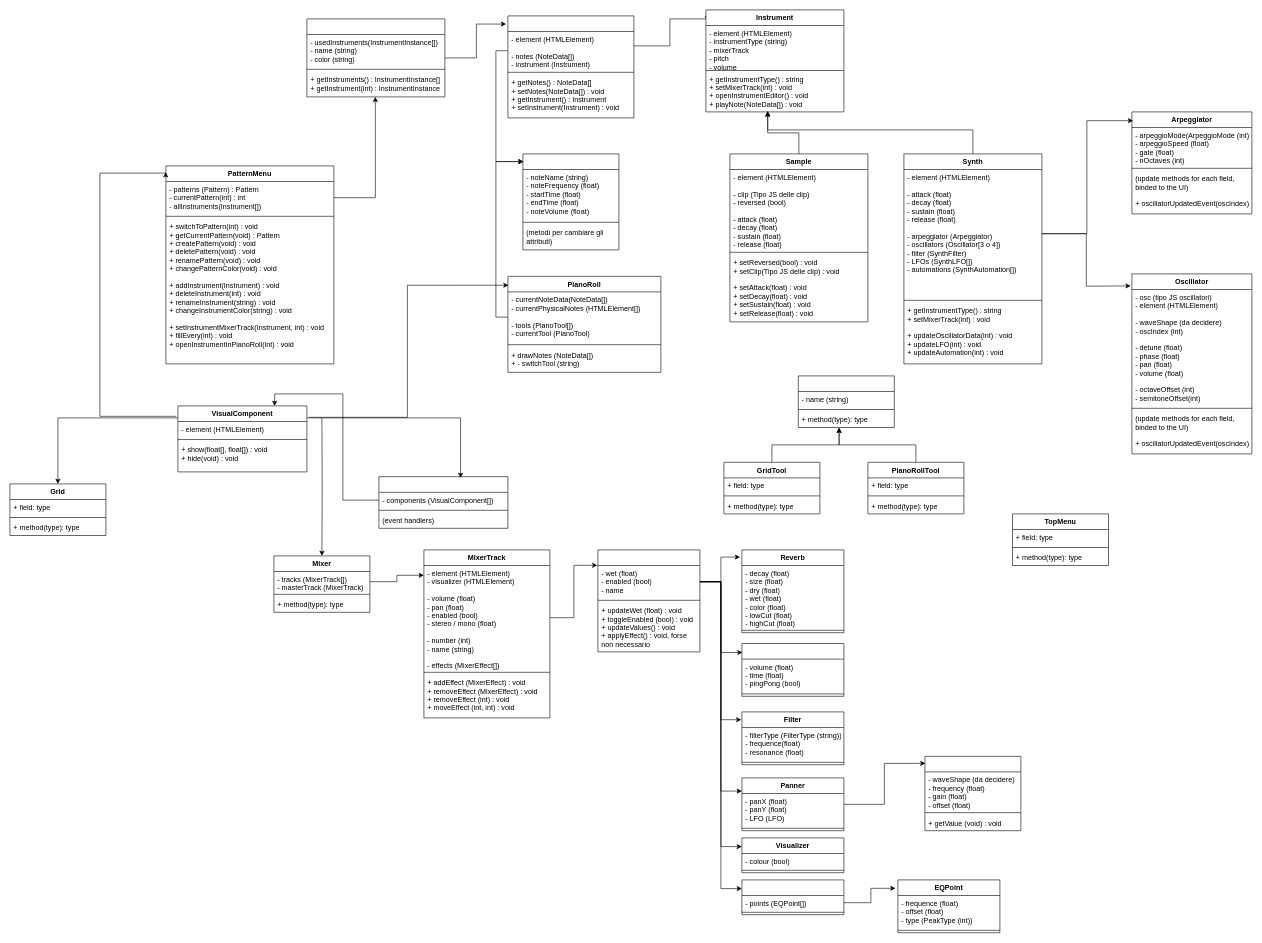
The diagram is 1262 pixels wide and 943 high, and some of its shapes have lost their labels. Here are the shapes that lost their labels. From the top down, the box of each, then its label:
(306, 18, 445, 97): Pattern
(507, 15, 634, 118): InstrumentInstance
(522, 153, 619, 250): NoteData
(798, 375, 894, 428): Tool
(378, 476, 508, 528): ApplicationSingleton
(597, 549, 700, 652): MixerEffect
(741, 643, 844, 696): Delay
(924, 756, 1021, 831): LFO
(741, 879, 844, 915): Equalizer
